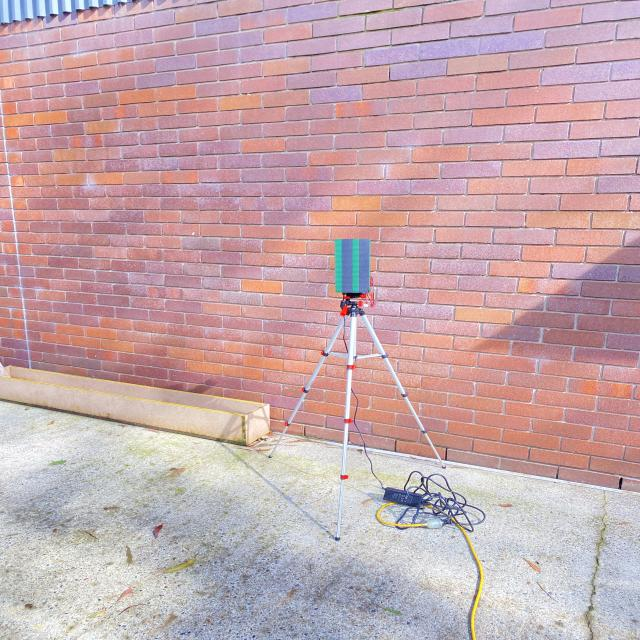matrix: (325, 226, 377, 298)
